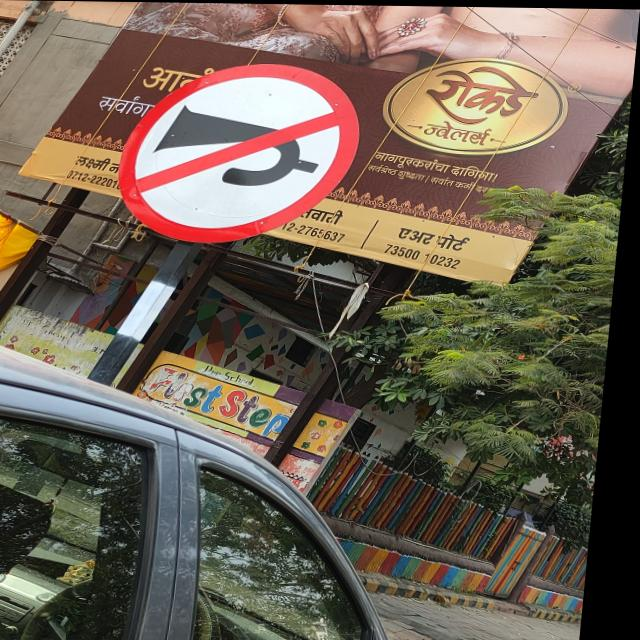HORN_PROHIBITED: (125, 65, 362, 245)
